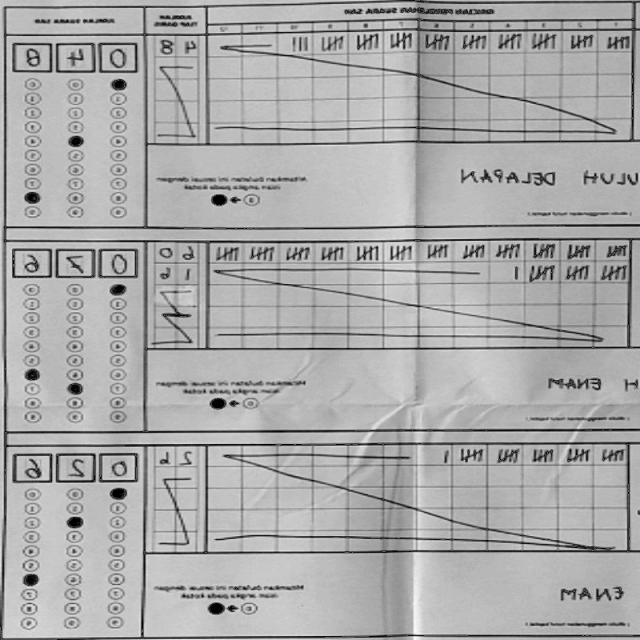Suara: (10, 242, 142, 282), (12, 446, 142, 486), (10, 38, 142, 76)
